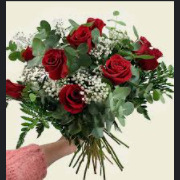RedRose: (37, 46, 72, 78), (101, 56, 135, 88), (70, 19, 103, 51), (59, 82, 89, 116), (134, 37, 161, 71), (6, 72, 26, 102), (20, 44, 34, 60)
